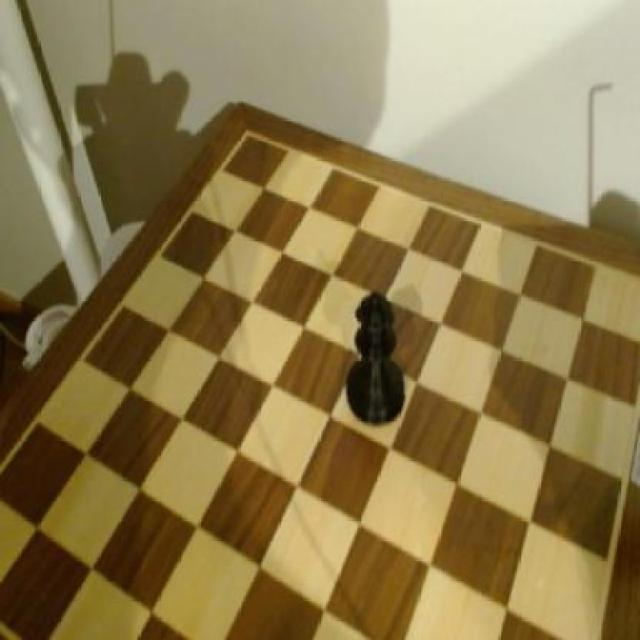black-pawn: (345, 286, 410, 427)
